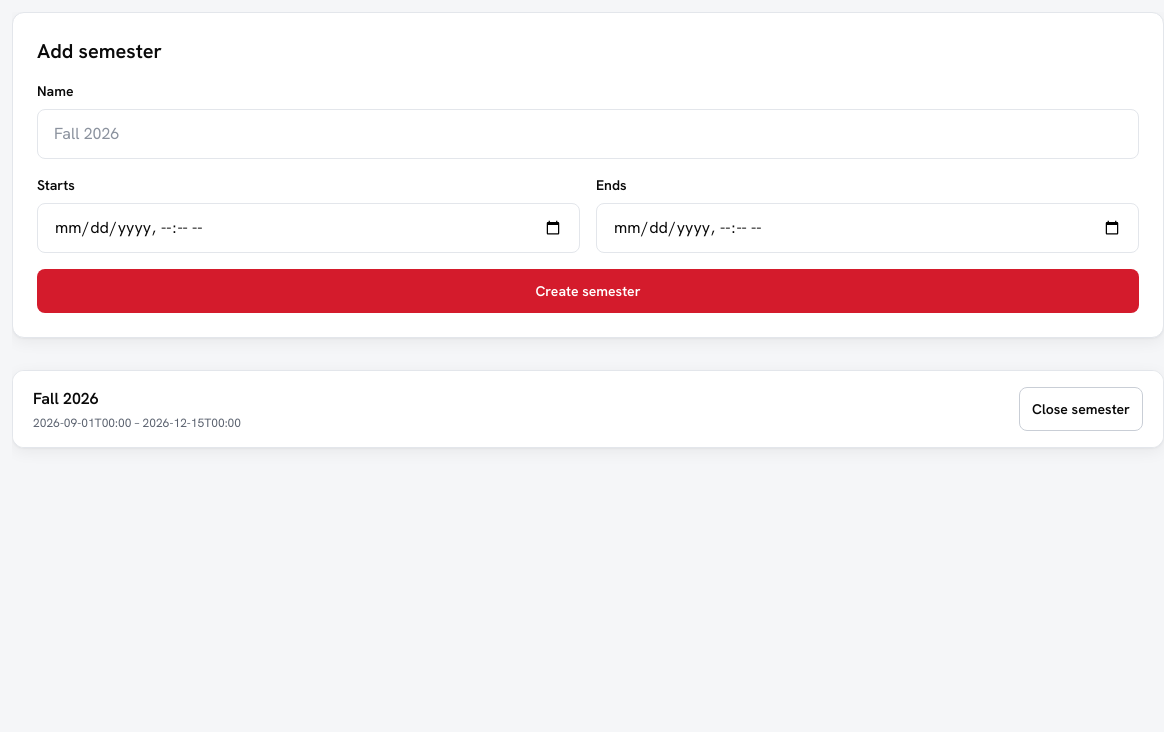
Test: SemesterForm › closes after confirm and shows success feedback
The width and height of the screenshot is (1164, 732).
What coordinates should you click on to do the following:
click the button "Close semester"
I would click on:
 (1081, 409)
Its box is [1019, 387, 1143, 431].
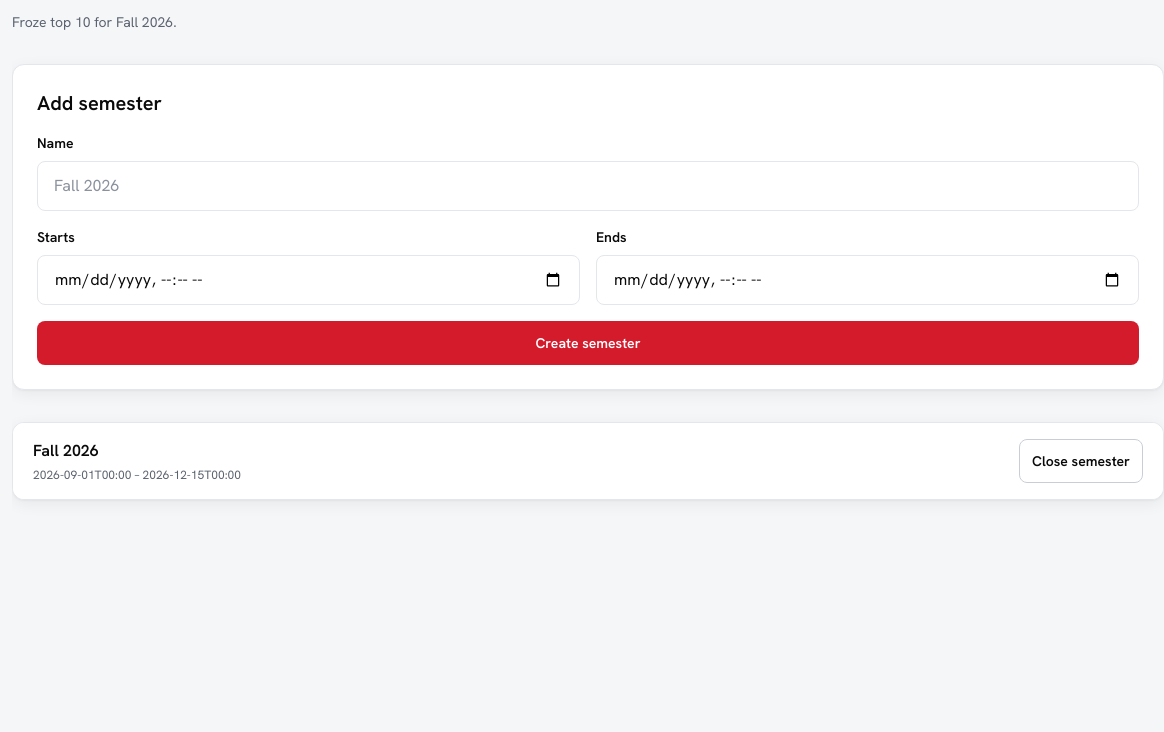
Now the text "Froze top 10 for Fall 2026." is shown, box [12, 13, 177, 31]
